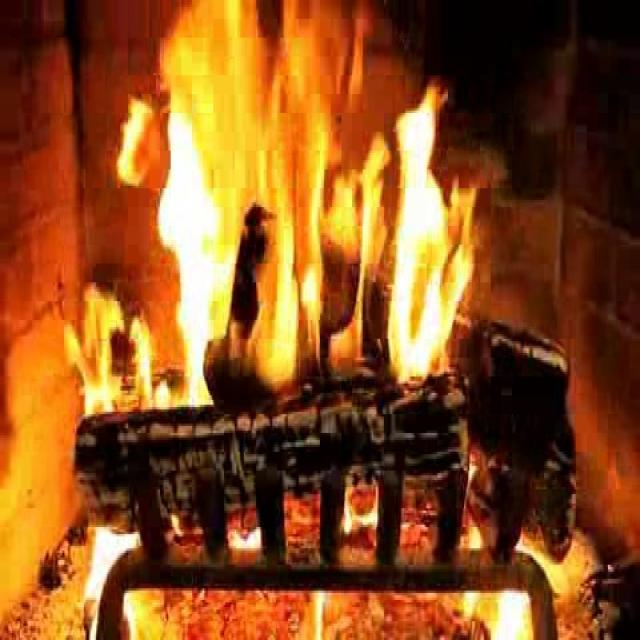Fire: (108, 10, 486, 467)
